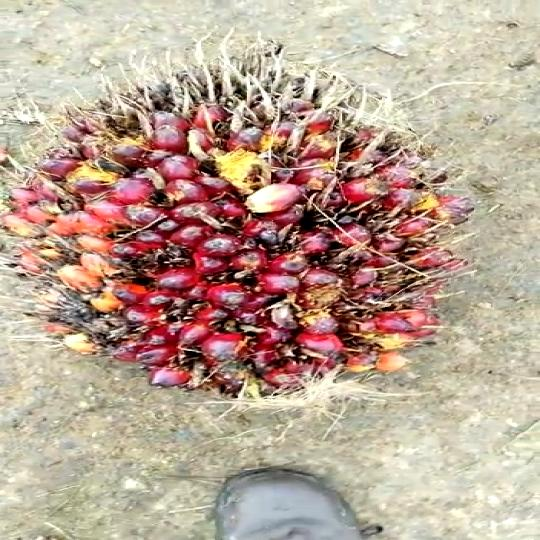masak: (4, 44, 502, 420)
